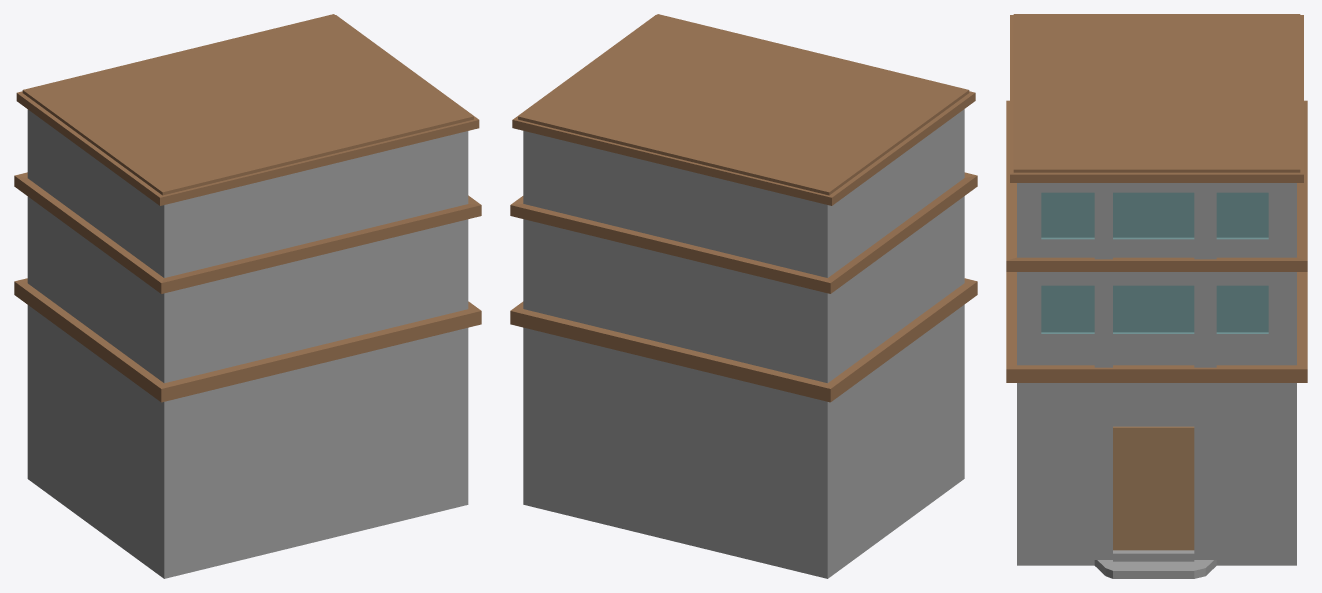
The model's file is housed.fbx.
3 views of the same model, side by side, from view 1: azimuth 30°, elevation 25°; view 2: azimuth 150°, elevation 25°; view 3: azimuth 270°, elevation 25° (orthographic). The views are drawn at different scales.
Parts seen in each view (by area): view 1: polySurface39; view 2: polySurface39; view 3: polySurface39.
Part boxes in pixels (x1=…): polySurface39: x1=14, y1=14, x2=481, y2=578; polySurface39: x1=510, y1=14, x2=977, y2=578; polySurface39: x1=1006, y1=14, x2=1307, y2=578.
Bounding box in the file's own units: 17.01 × 18.63 × 12.78.
